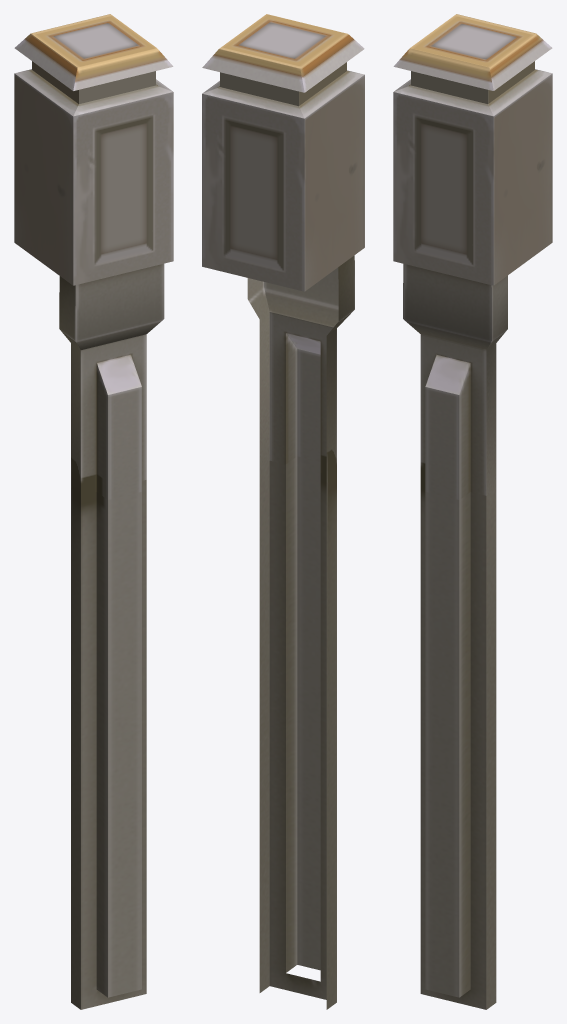
The model's file is zhucheng_huchengheqiang_03.FBX.
3 renders of one model, left to right at view 1: azimuth 30°, elevation 25°; view 2: azimuth 150°, elevation 25°; view 3: azimuth 330°, elevation 25°, orthographic. The views are drawn at different scales.
Parts seen in each view (by area): view 1: zhucheng_huchengheqiang_03; view 2: zhucheng_huchengheqiang_03; view 3: zhucheng_huchengheqiang_03.
Boxes of the visible parts, x1,y1,x2,y2 form: zhucheng_huchengheqiang_03: [14, 14, 173, 1009]; zhucheng_huchengheqiang_03: [202, 14, 364, 1009]; zhucheng_huchengheqiang_03: [393, 14, 552, 1009].
Size of the model in its own units: 64.96 by 586 by 67.53.
